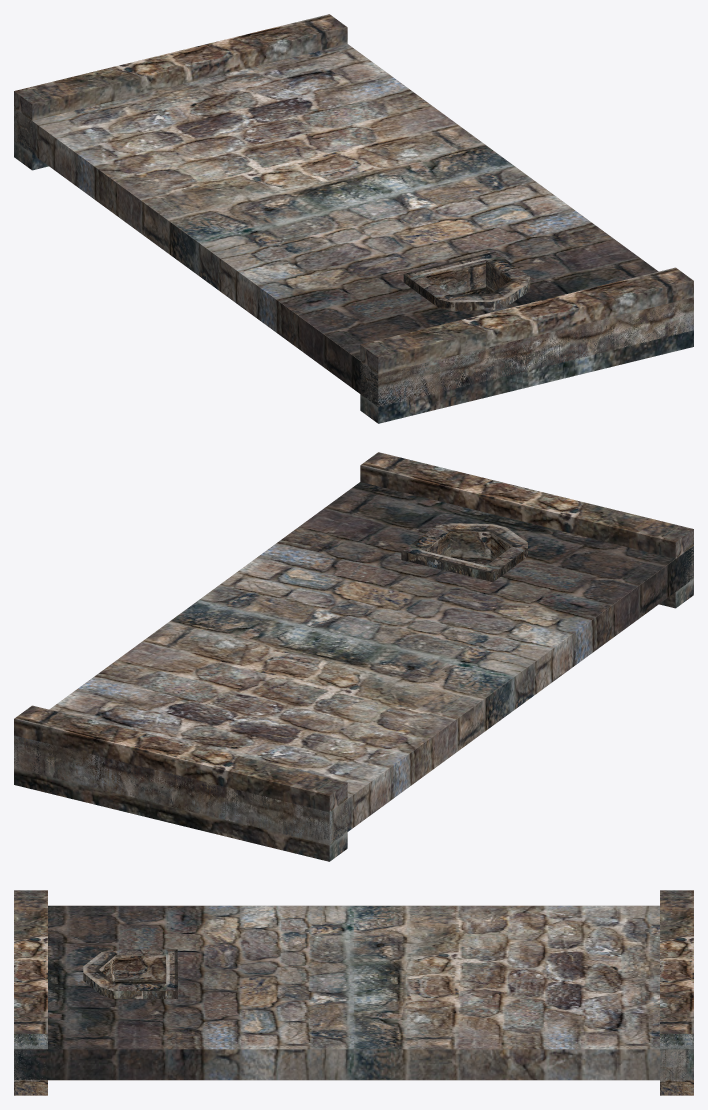
File: Lab_WallWindow.gltf
The picture shows the model from 3 angles, top to bottom: view 1: azimuth 30°, elevation 25°; view 2: azimuth 150°, elevation 25°; view 3: azimuth 270°, elevation 25°; orthographic projection. The views are drawn at different scales.
Parts seen in each view (by area): view 1: Lab_WallWindow; view 2: Lab_WallWindow; view 3: Lab_WallWindow.
Part boxes in pixels (left/top/right/bottom): Lab_WallWindow: left=14, top=14, right=693, bottom=423; Lab_WallWindow: left=14, top=452, right=693, bottom=861; Lab_WallWindow: left=14, top=890, right=693, bottom=1095.
Bounding box in the file's own units: 0.013 × 0.0026 × 0.026.
1 material, 1 textured.
